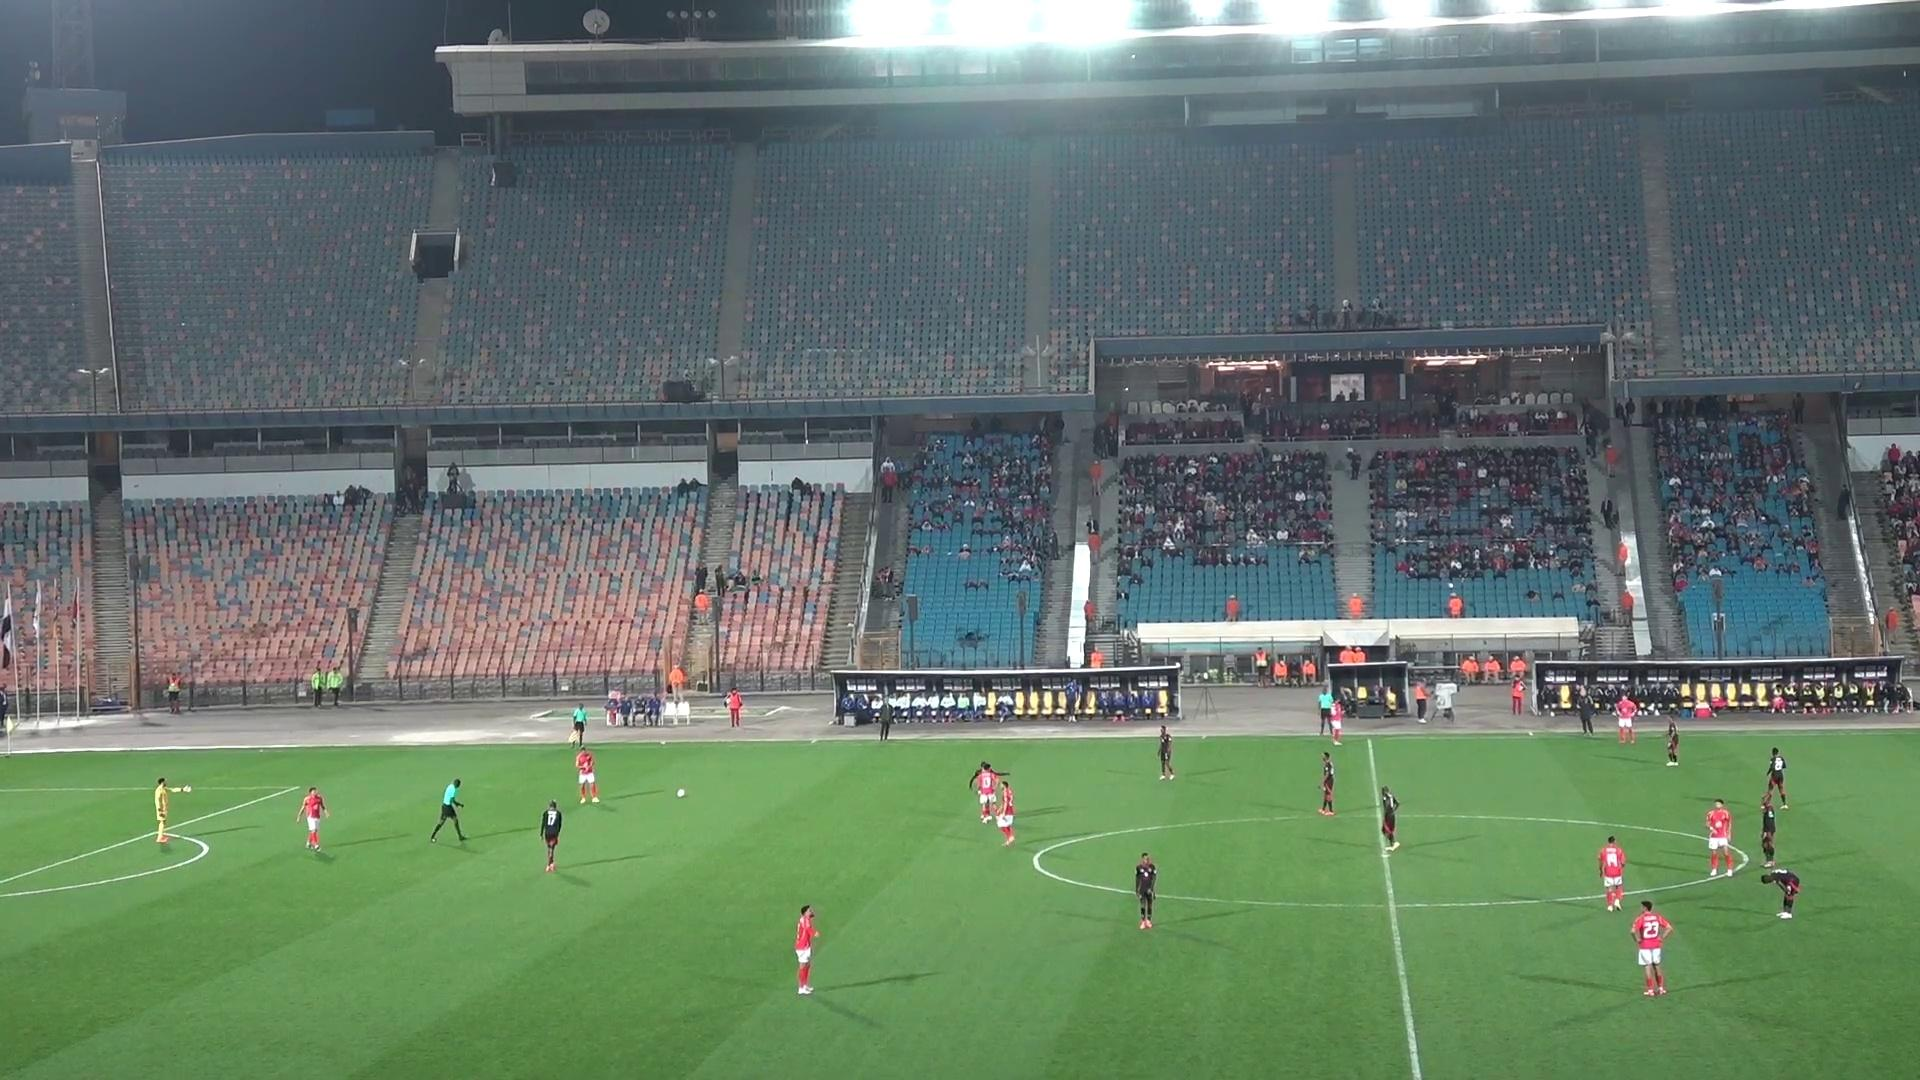Ball: (674, 789, 688, 799)
GK1: (152, 777, 193, 844)
Refree: (430, 779, 469, 843), (567, 703, 605, 748), (1316, 687, 1333, 738), (535, 709, 553, 719)
Team1: (1630, 898, 1673, 997), (1704, 799, 1747, 876), (969, 761, 1013, 823), (793, 905, 819, 996), (1597, 836, 1626, 911), (295, 787, 328, 853), (572, 748, 601, 803), (1611, 695, 1640, 742), (1327, 692, 1348, 745)
Team2: (1759, 781, 1788, 869), (1760, 862, 1801, 916), (1759, 748, 1789, 810), (539, 798, 564, 872), (1133, 852, 1156, 928), (1375, 786, 1400, 855), (1317, 753, 1336, 816), (1156, 725, 1174, 779), (1664, 721, 1681, 766)
